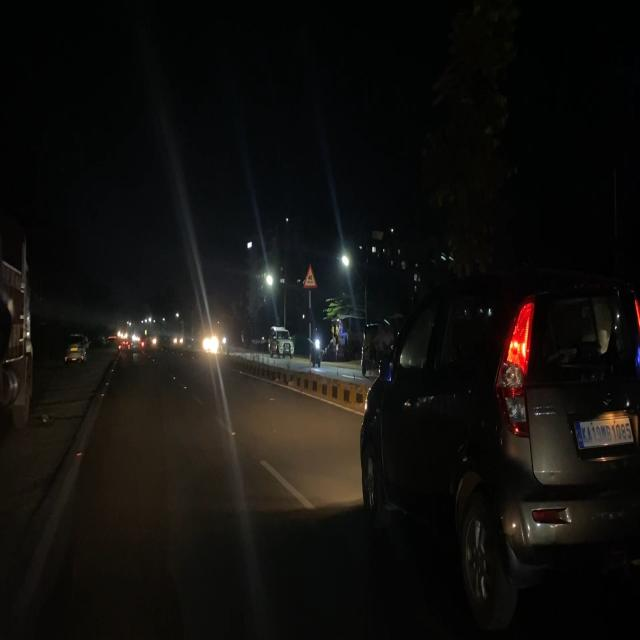bien_cam: (302, 262, 318, 289)
